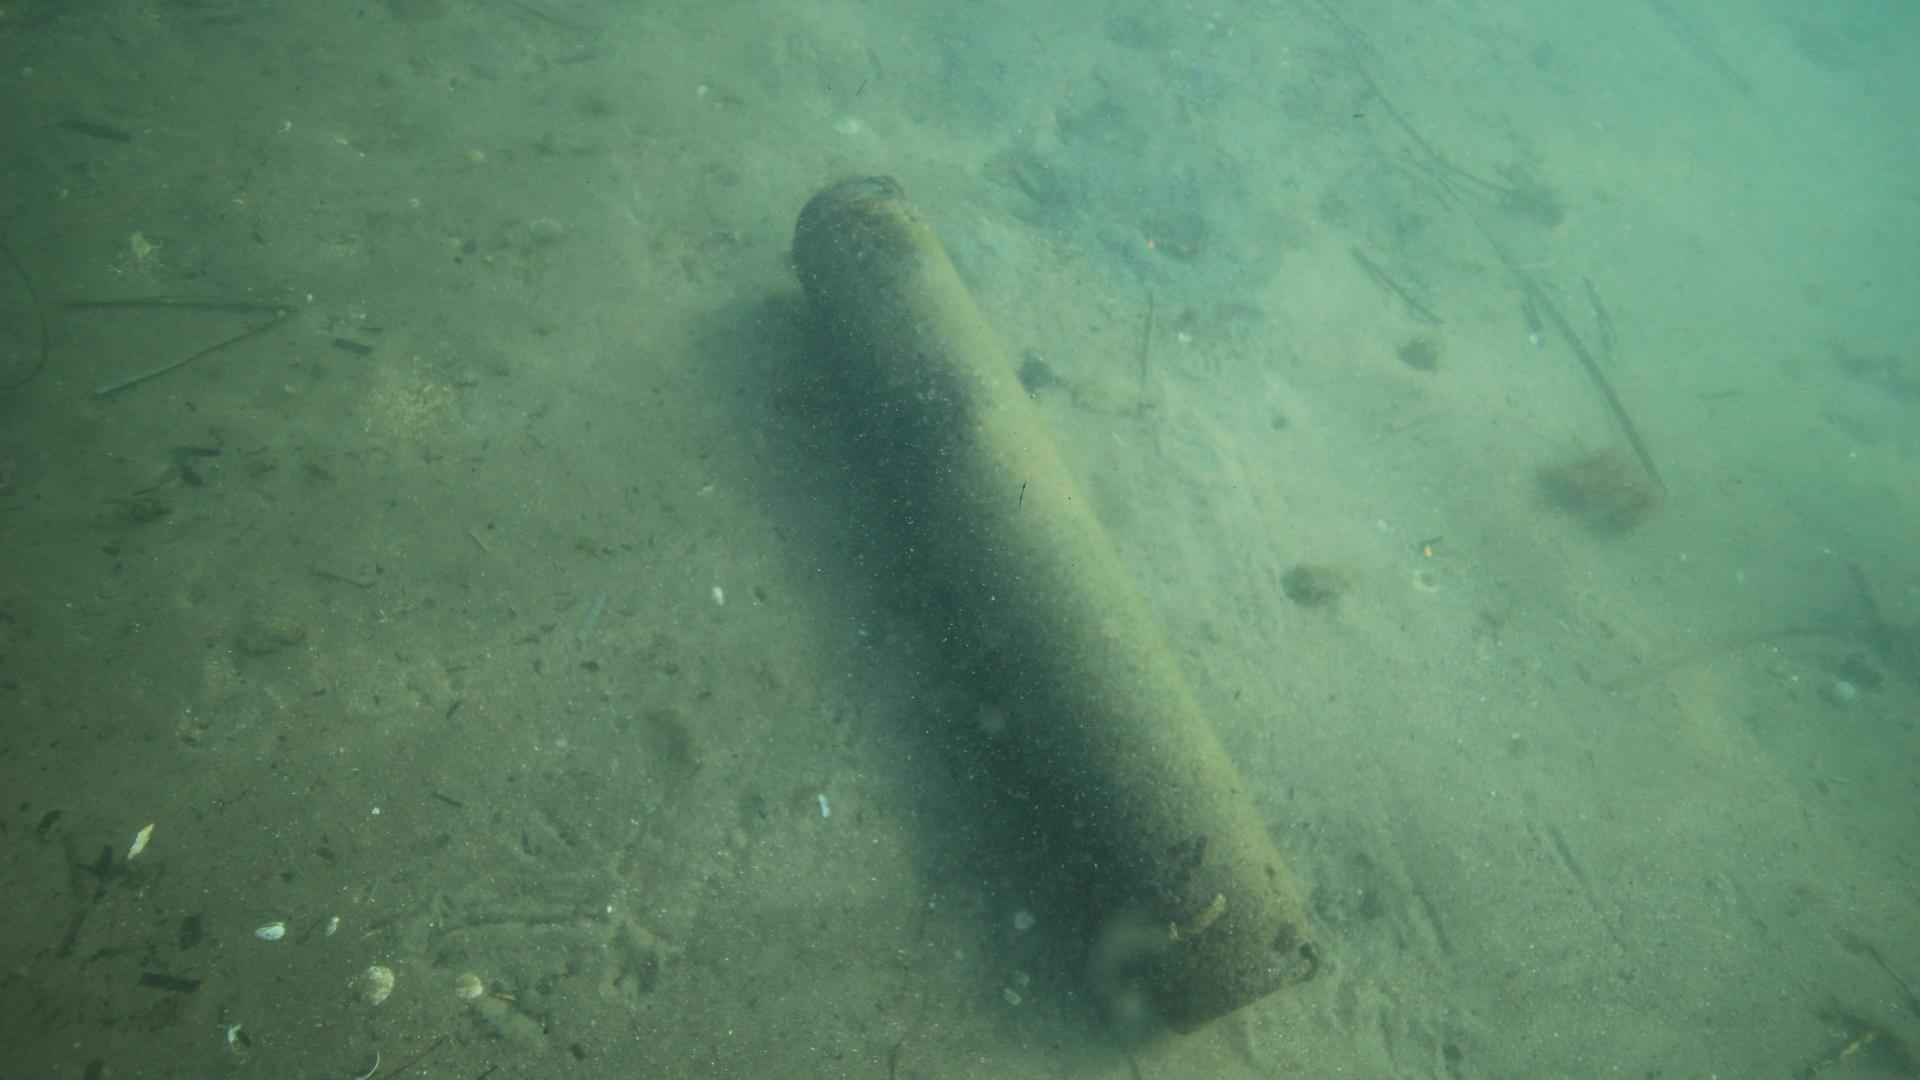eel fish trap: (785, 166, 1341, 1031)
